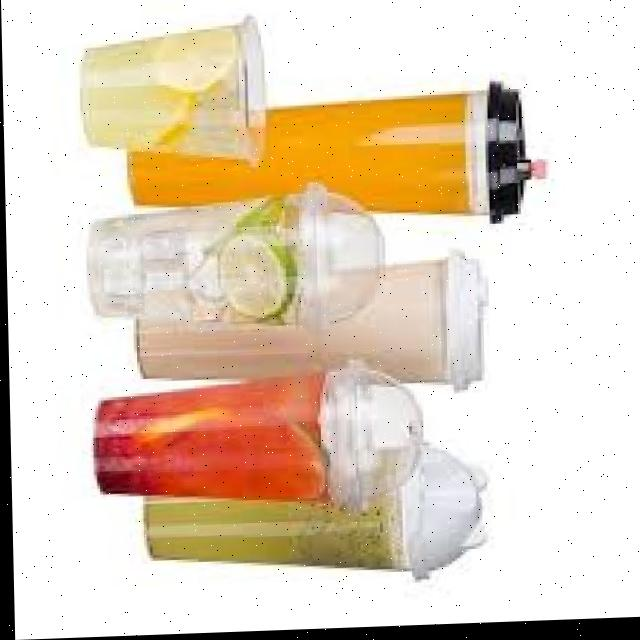cup: (87, 189, 326, 331), (92, 379, 325, 502), (81, 24, 265, 168)
